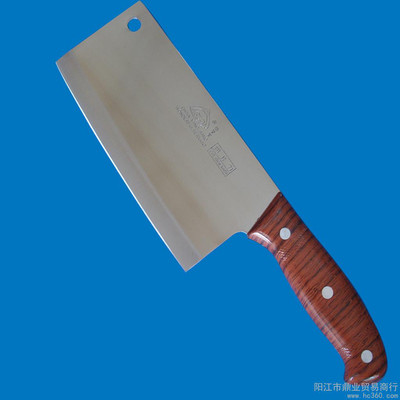knief: (57, 22, 395, 384)
